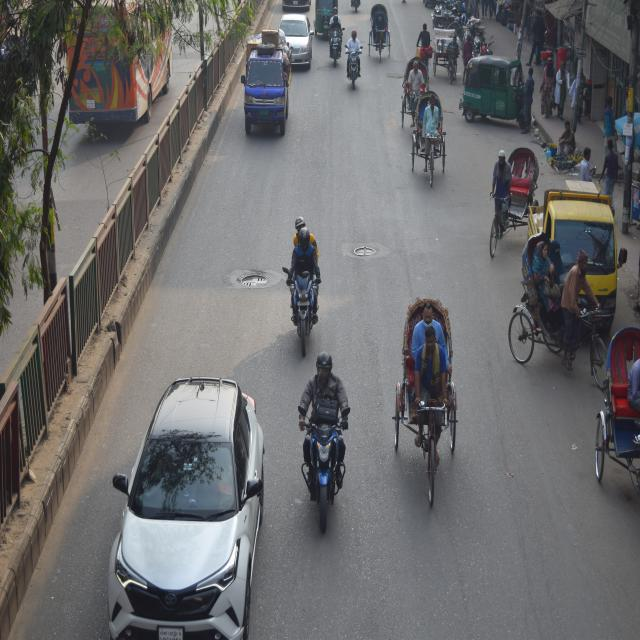car: (108, 350, 262, 640)
microbus: (272, 1, 320, 83)
motorbike: (287, 349, 360, 550), (276, 212, 342, 347), (341, 20, 370, 100), (323, 10, 344, 84)
pickup-van: (516, 178, 628, 330), (238, 26, 294, 144)
